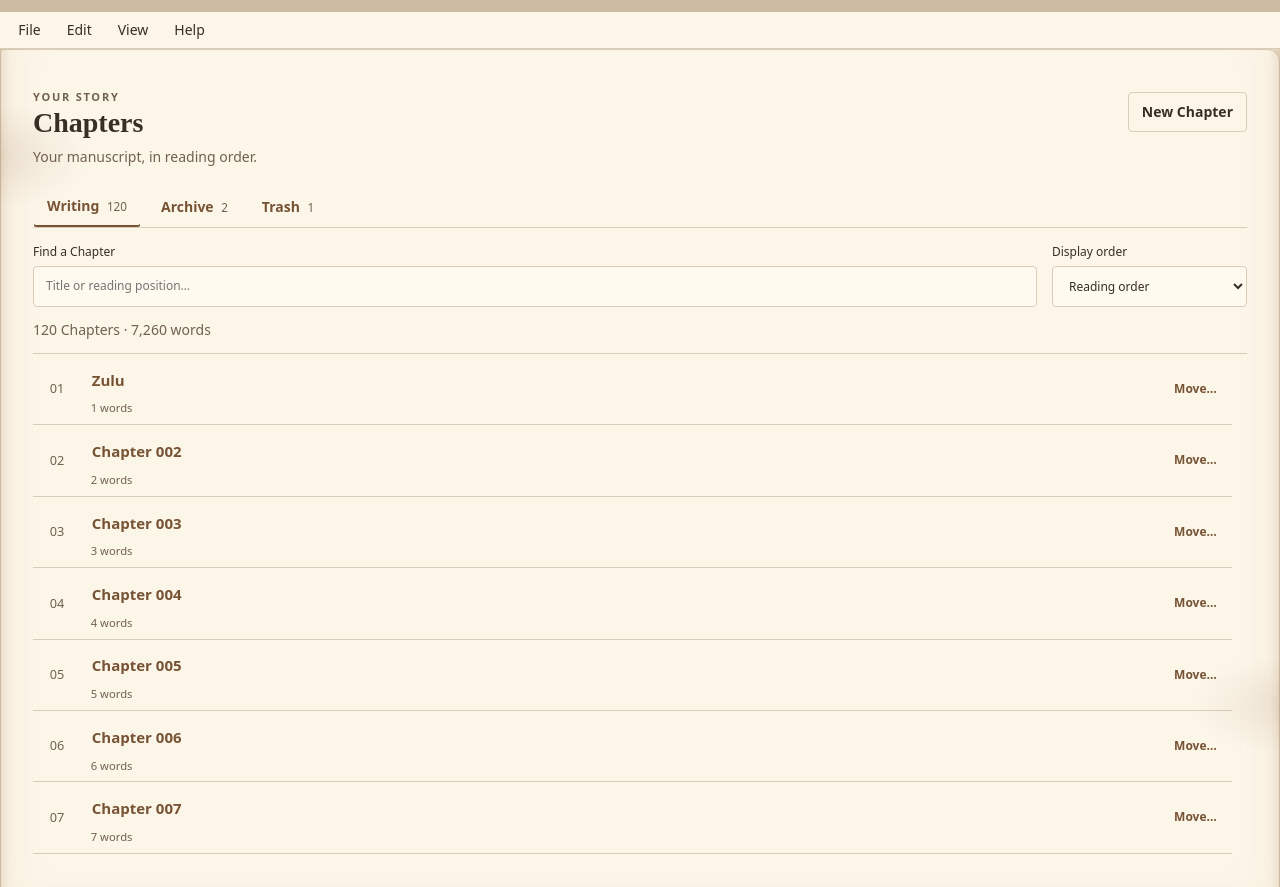
Test: sorts the display without changing canonical reading positions or saved order
The image size is (1280, 887).
Expected: the button "Zulu" is shown, [91,361,126,399]
Select "Title A–Z" in the dropdown labelled "Display order" at (1150, 287), box [1052,266,1247,307]
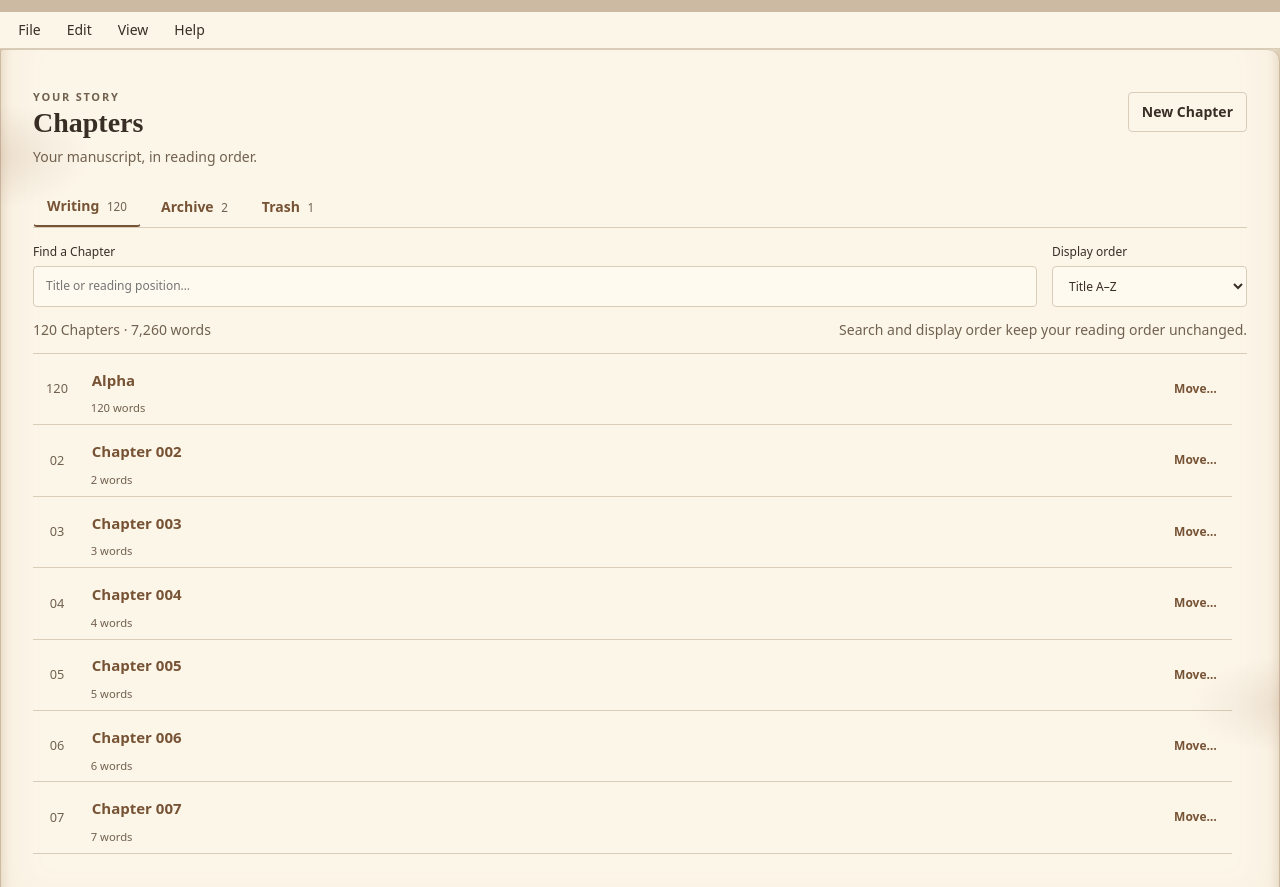
Result: the button "Alpha" is shown at [91,361,136,399]
Result: the text named "Reading position 120" reads "120" at [46,379,68,397]
Select "Word count" in the dropdown labelled "Display order" at (1150, 287), box [1052,266,1247,307]
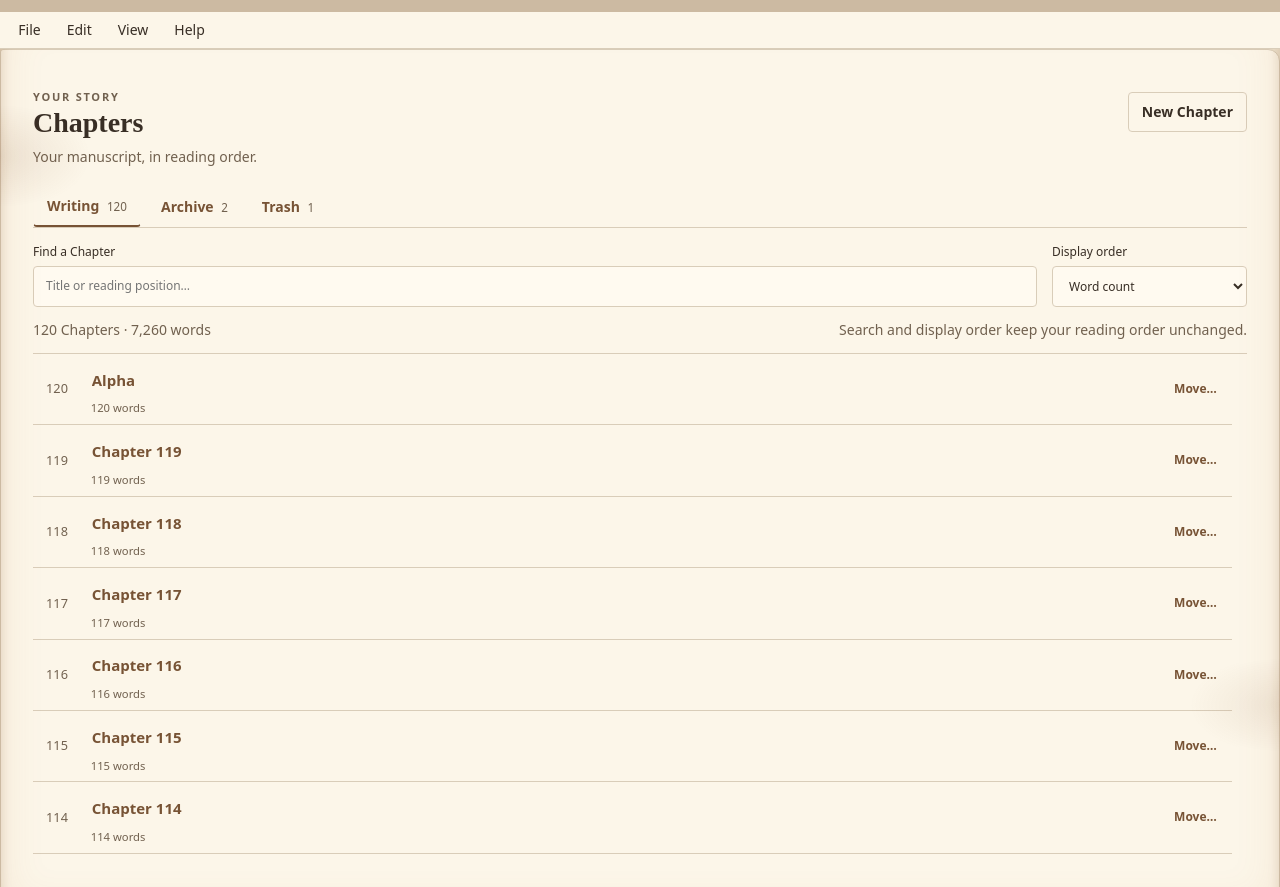
Result: the text "Search and display order keep your reading order unchanged." is shown at [839,319,1247,341]
Select "Reading order" in the dropdown labelled "Display order" at (1150, 287), box [1052,266,1247,307]
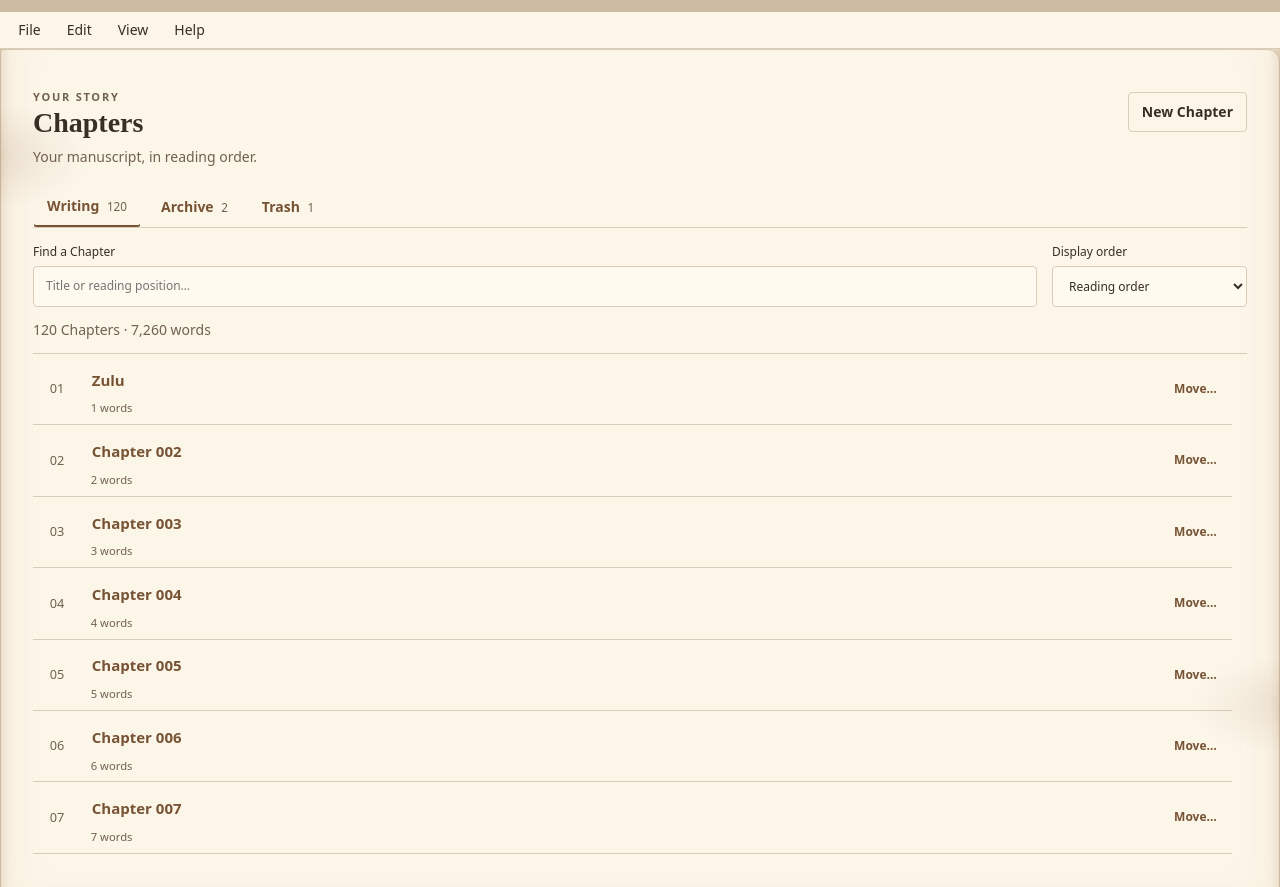
Result: the list item "01 Zulu 1 words Move…" is shown at [33,354,1232,425]
